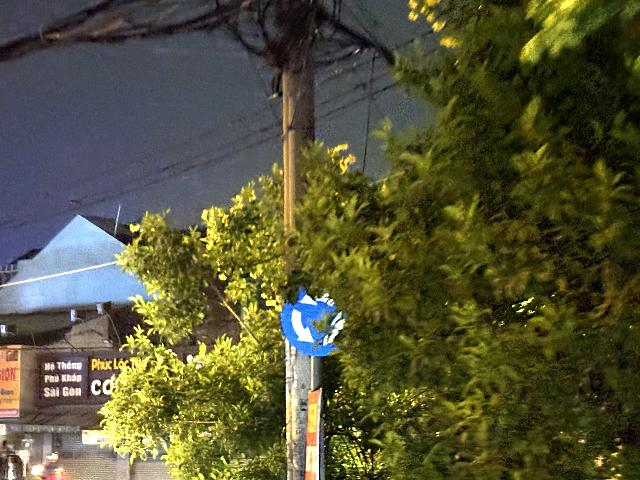noi-giao-nhau-chay-theo-vong-xuyen: (281, 283, 347, 356)
